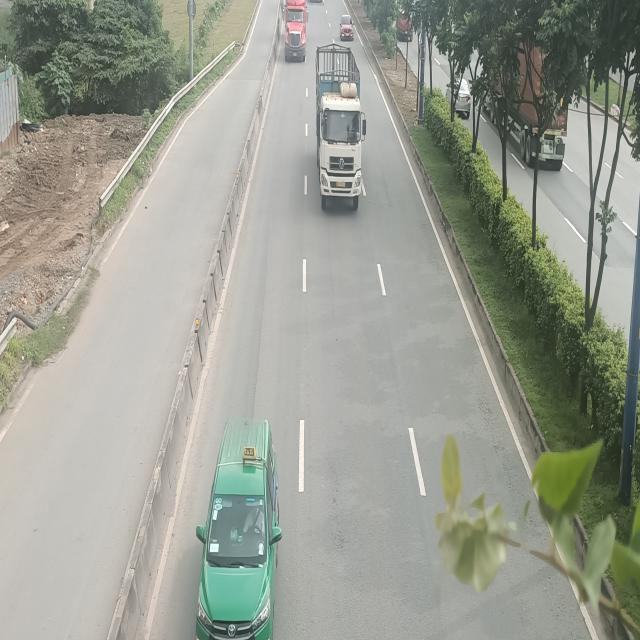car: (193, 417, 280, 640), (340, 15, 354, 40)
container: (282, 0, 309, 62)
truck: (316, 42, 366, 209)
